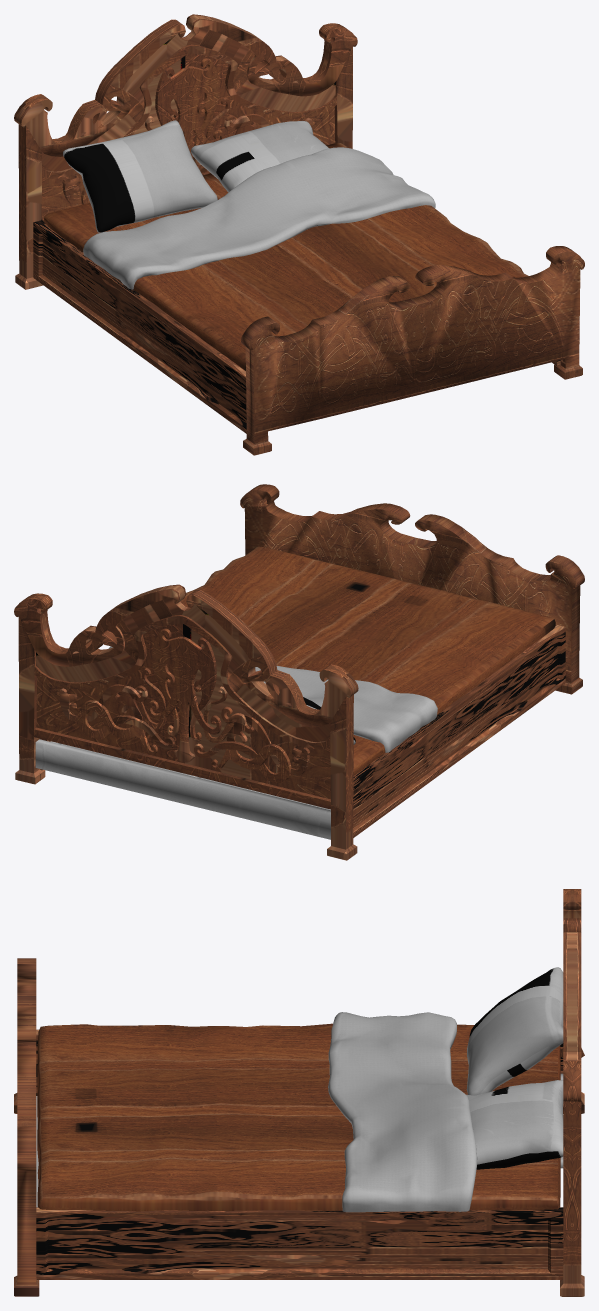
Rendered from bed.fbx.
3 views of the same model, one above another, from view 1: azimuth 30°, elevation 25°; view 2: azimuth 150°, elevation 25°; view 3: azimuth 270°, elevation 25° (orthographic). The views are drawn at different scales.
Visible parts, largest first — view 1: Bed_Final; view 2: Bed_Final; view 3: Bed_Final.
Boxes of the visible parts, x1,y1,x2,y2 form: Bed_Final: (14, 14, 584, 455); Bed_Final: (14, 484, 584, 860); Bed_Final: (14, 889, 584, 1296).
Size of the model in its own units: 1.79 by 1.15 by 2.18.
